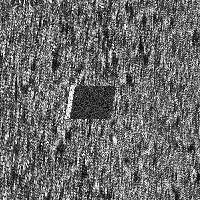mine: (64, 82, 117, 120)
